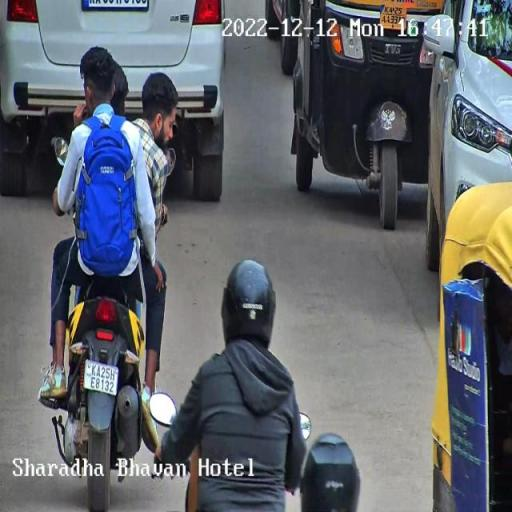tripple riding: (46, 42, 181, 304)
